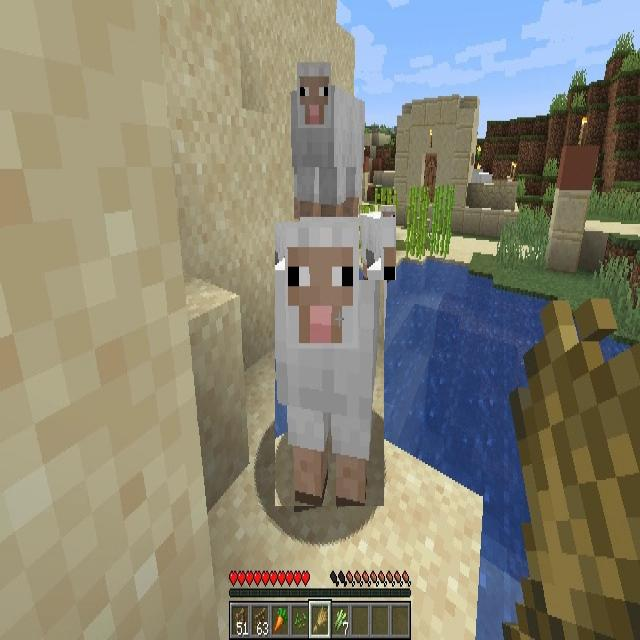sheep: (275, 222, 384, 506), (290, 59, 362, 225), (359, 205, 396, 280)
